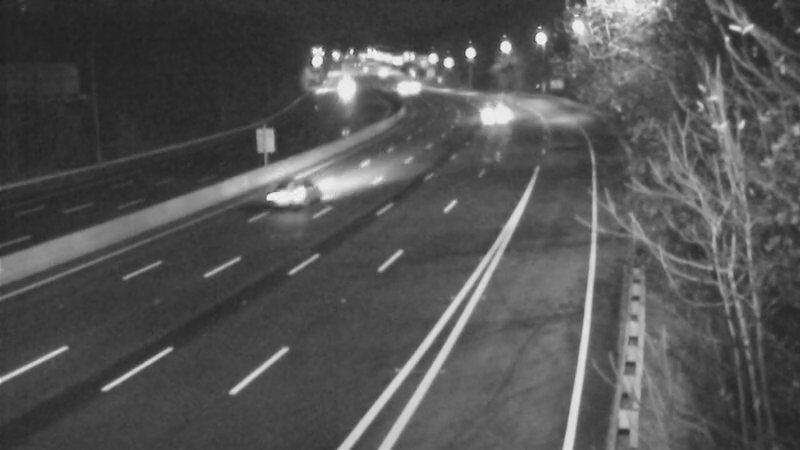vehicle: (255, 151, 335, 231), (387, 60, 437, 110), (376, 63, 426, 113), (468, 89, 518, 139), (322, 60, 372, 110)
